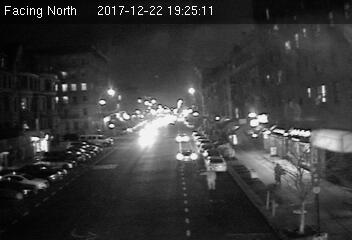car: (206, 155, 226, 173), (175, 148, 198, 163), (175, 133, 191, 143)
pedestrian: (270, 162, 285, 187)
